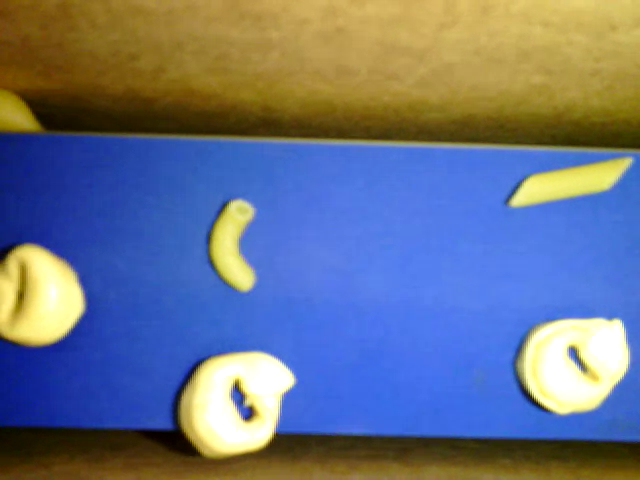elbow: (208, 196, 258, 293)
penne: (507, 156, 635, 207)
tortellini: (179, 350, 297, 460), (515, 316, 631, 414), (1, 242, 88, 346)
